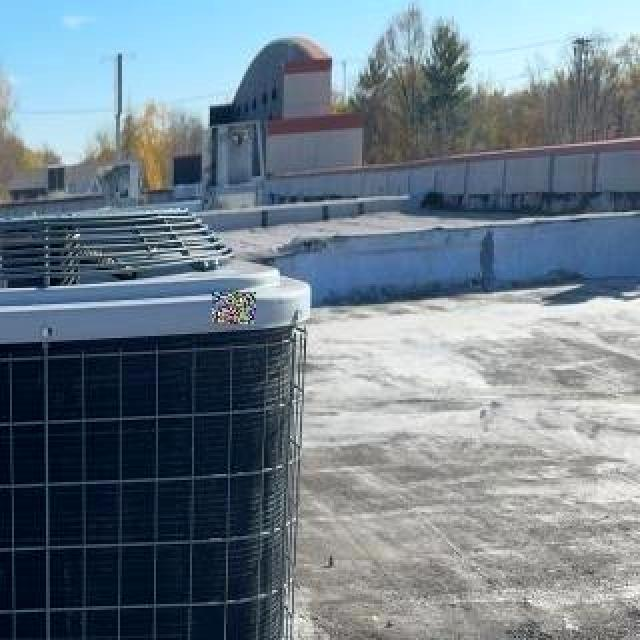SPLIT-SYSTEM: (0, 186, 314, 640)
